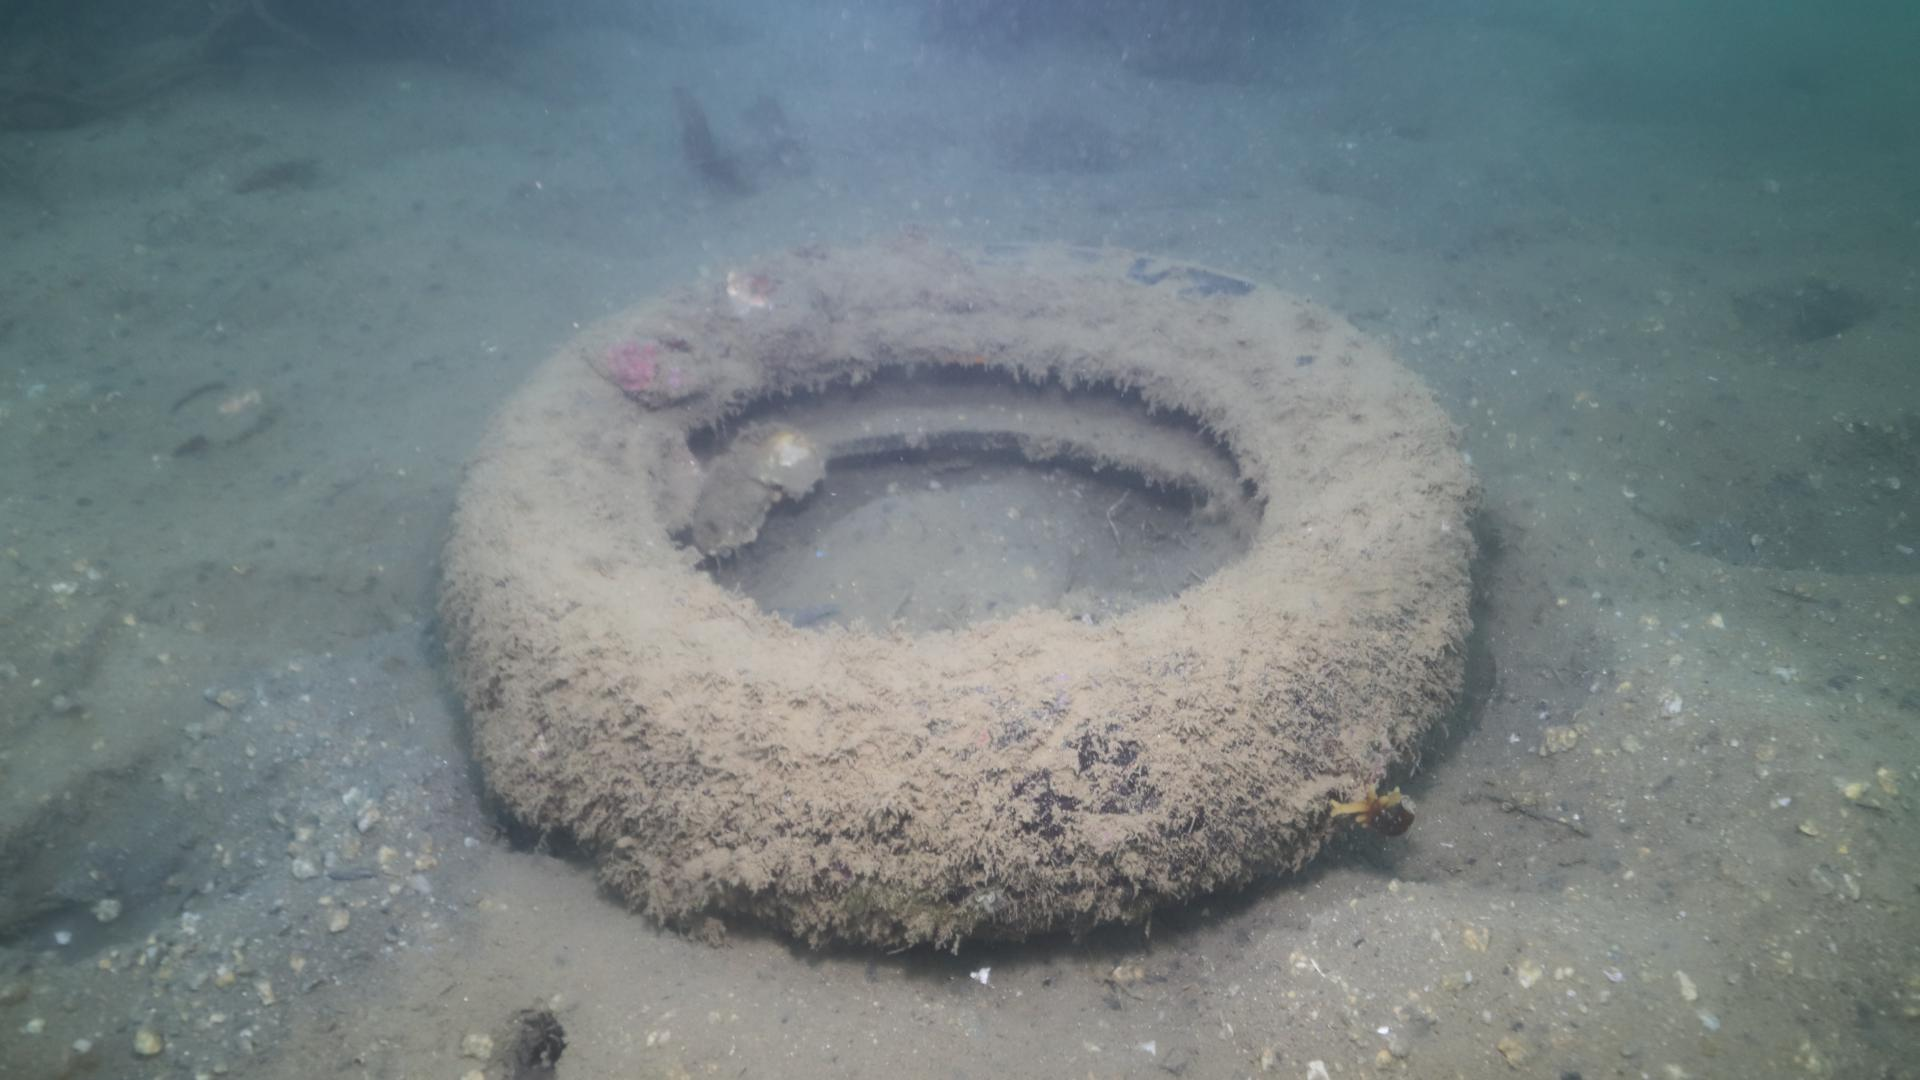tire: (451, 235, 1476, 942)
